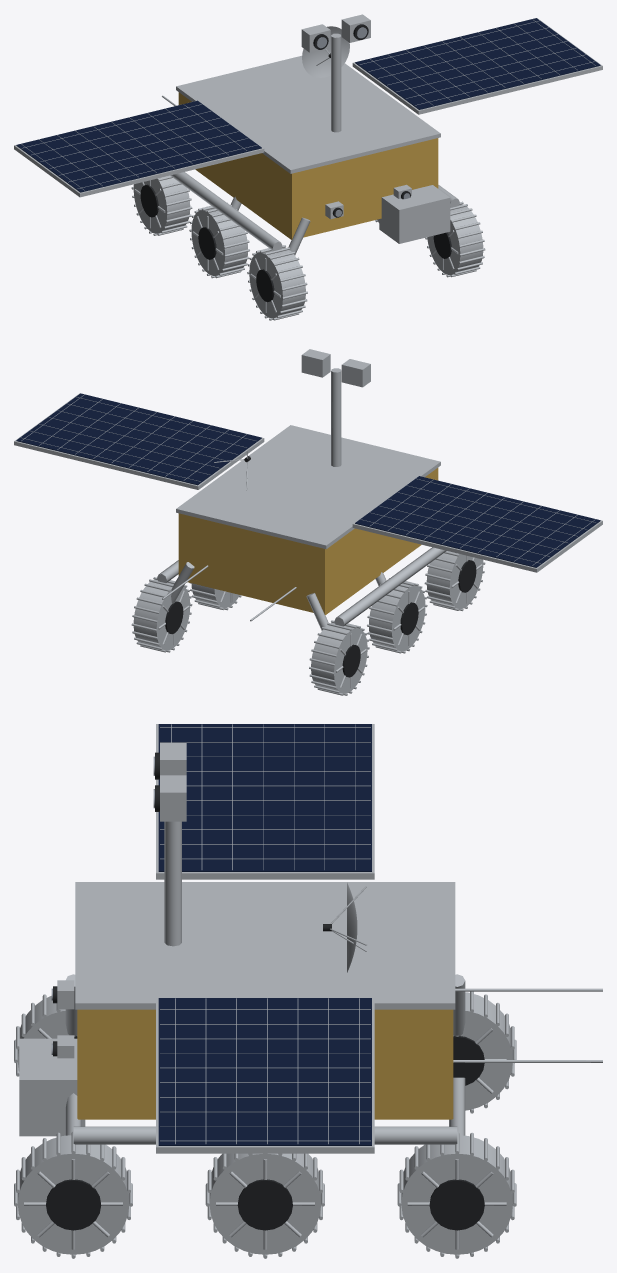
Rendered from yutu2_rover.glb.
3 views of the same model, one above another, from view 1: azimuth 30°, elevation 25°; view 2: azimuth 150°, elevation 25°; view 3: azimuth 270°, elevation 25° (orthographic). The views are drawn at different scales.
Visible parts, largest first — view 1: solar_cells (×2), deck, insulated_chassis, wheel_drum (×4), VNIS, solar_backing (×2), rocker_rail, hub_cover (×3), camera_housing (×2), camera_mast, dish_reflector; view 2: solar_cells (×2), deck, insulated_chassis, wheel_drum (×5), solar_backing (×2), hub_cover (×4), rocker_rail, camera_housing (×2), camera_mast; view 3: solar_cells (×2), deck, wheel_drum (×5), insulated_chassis, hub_cover (×4), solar_backing (×2), VNIS, rocker_rail, camera_mast, camera_housing (×2), rocker_bogie.
Boxes of the visible parts, left/top/right/bottom form: solar_cells (×2): left=16, top=18, right=600, bottom=192; deck: left=176, top=55, right=440, bottom=173; insulated_chassis: left=178, top=92, right=438, bottom=239; wheel_drum (×4): left=133, top=175, right=483, bottom=318; VNIS: left=379, top=185, right=450, bottom=243; solar_backing (×2): left=14, top=18, right=602, bottom=197; rocker_rail: left=170, top=172, right=282, bottom=250; hub_cover (×3): left=140, top=184, right=274, bottom=302; camera_housing (×2): left=301, top=14, right=370, bottom=52; camera_mast: left=331, top=33, right=341, bottom=132; dish_reflector: left=302, top=26, right=349, bottom=77; solar_cells (×2): left=16, top=393, right=600, bottom=567; deck: left=176, top=425, right=440, bottom=549; insulated_chassis: left=178, top=468, right=438, bottom=615; wheel_drum (×5): left=133, top=551, right=483, bottom=693; solar_backing (×2): left=14, top=393, right=602, bottom=572; hub_cover (×4): left=165, top=560, right=476, bottom=677; rocker_rail: left=334, top=547, right=446, bottom=626; camera_housing (×2): left=301, top=349, right=370, bottom=387; camera_mast: left=331, top=368, right=341, bottom=466; solar_cells (×2): left=158, top=724, right=371, bottom=1145; deck: left=75, top=882, right=455, bottom=1009; wheel_drum (×5): left=17, top=992, right=512, bottom=1254; insulated_chassis: left=77, top=1009, right=453, bottom=1119; hub_cover (×4): left=46, top=1036, right=484, bottom=1230; solar_backing (×2): left=156, top=724, right=374, bottom=1153; VNIS: left=19, top=1038, right=85, bottom=1136; rocker_rail: left=73, top=1126, right=457, bottom=1144; camera_mast: left=164, top=821, right=181, bottom=946; camera_housing (×2): left=160, top=743, right=186, bottom=821; rocker_bogie: left=449, top=1077, right=465, bottom=1135.
Bounding box in the file's own units: 2.61 × 1.18 × 1.54.
Materials: 5 (5 with a texture image).
